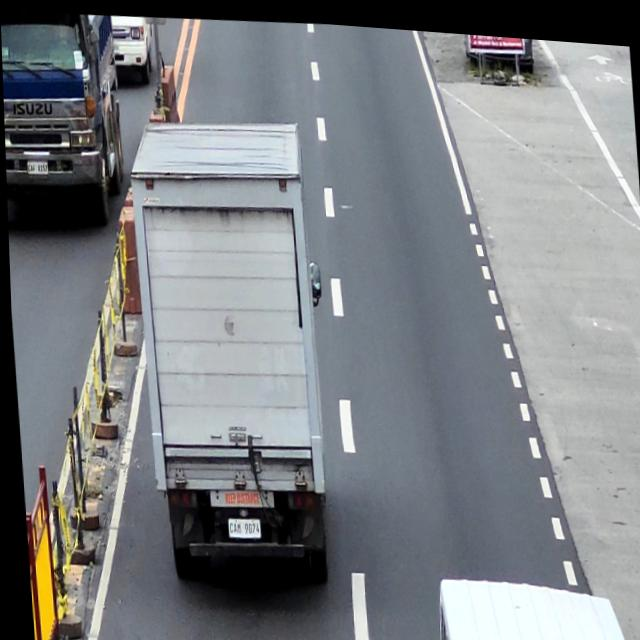License-Plate: (223, 515, 256, 536), (24, 159, 47, 175)
Truck: (124, 111, 339, 593), (0, 7, 125, 228)
